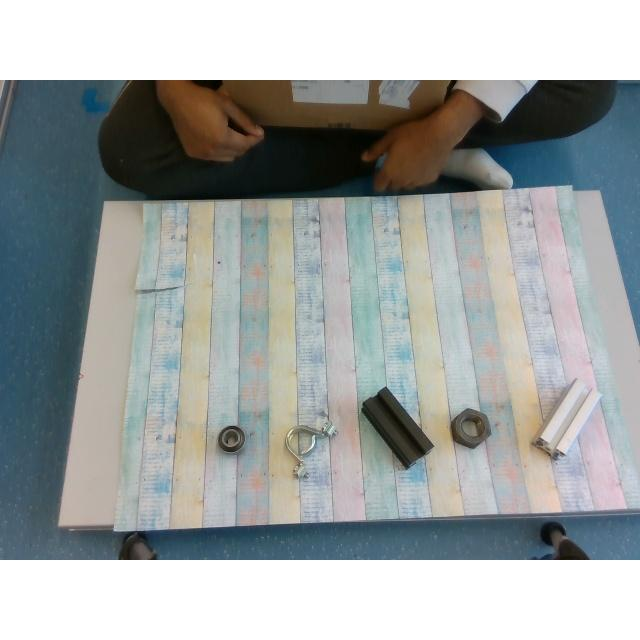Bearing2: (218, 424, 246, 452)
Housing: (286, 420, 338, 480)
M30: (450, 408, 490, 448)
S40_40_B: (362, 388, 433, 468)
S40_40_G: (532, 378, 600, 458)
